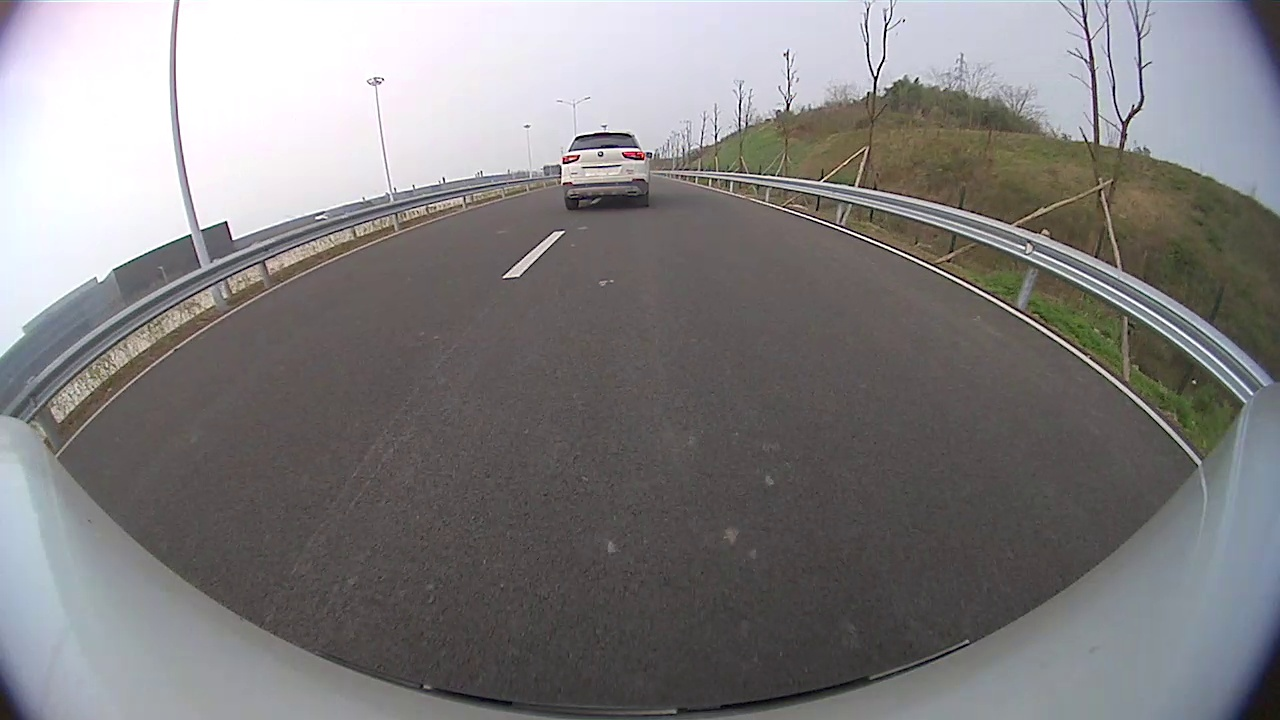car: (562, 130, 653, 211)
